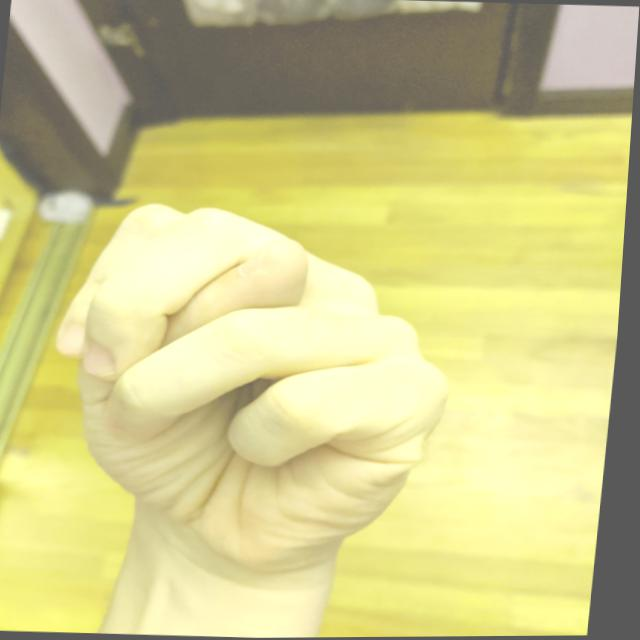N: (30, 193, 482, 583)
